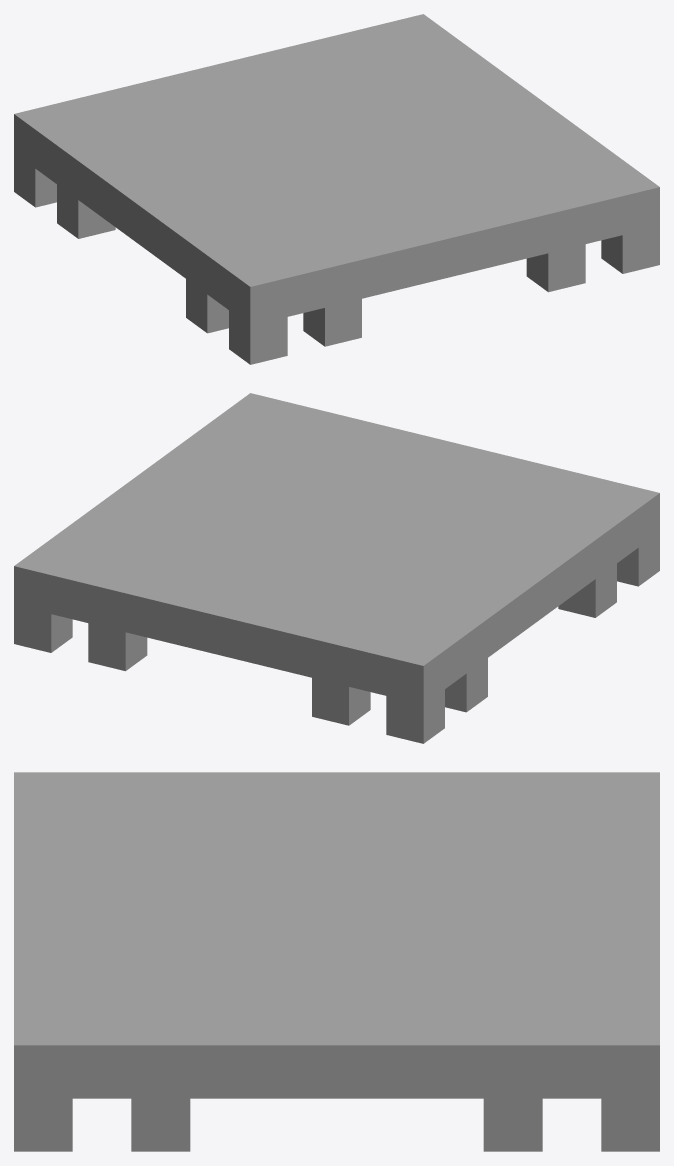
Rendered from TableTop3.obj.
3 views of the same model, one above another, from view 1: azimuth 30°, elevation 25°; view 2: azimuth 150°, elevation 25°; view 3: azimuth 270°, elevation 25° (orthographic). The views are drawn at different scales.
Size of the model in its own units: 1.1 by 0.2 by 1.1.
